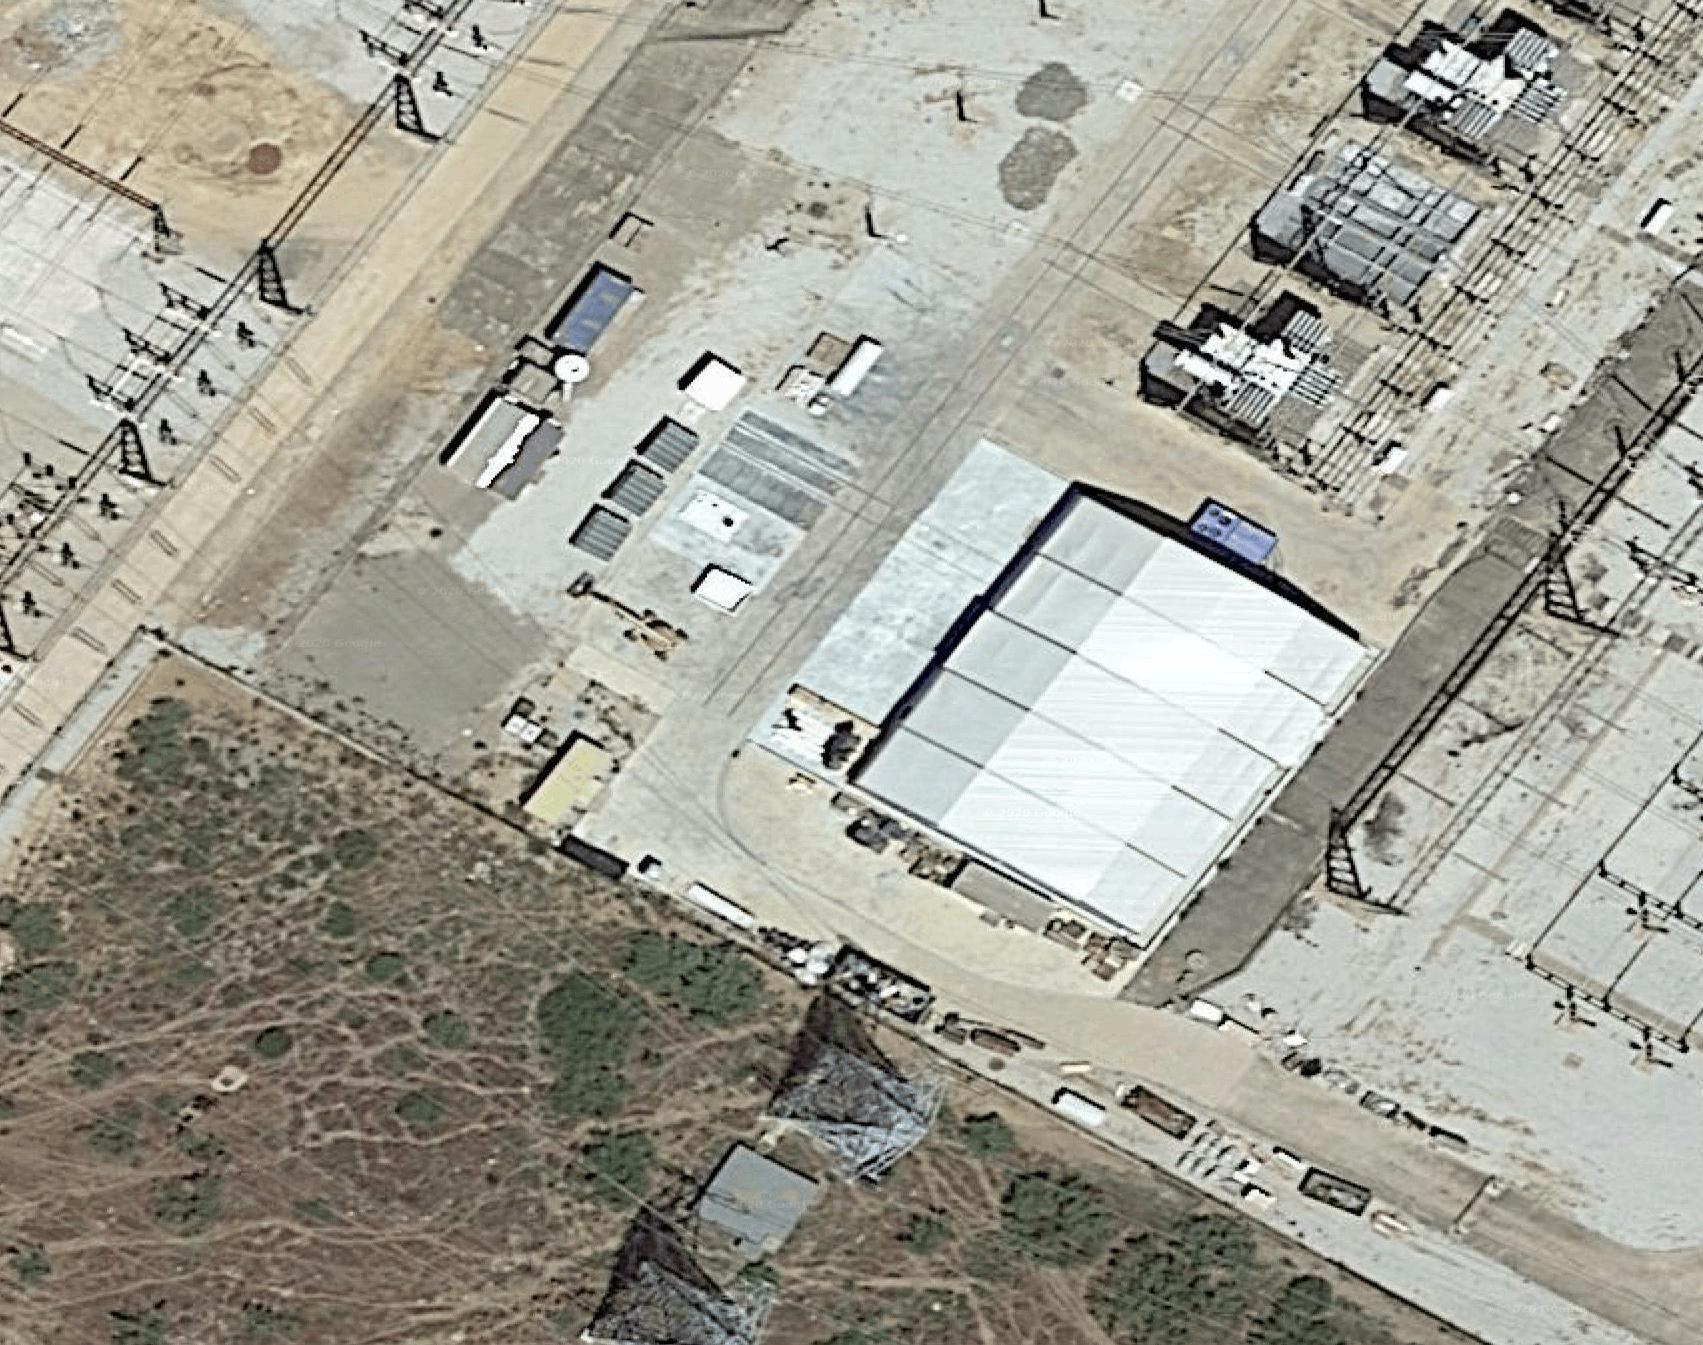substation: (1091, 1, 1703, 1122), (1, 1, 535, 717)
